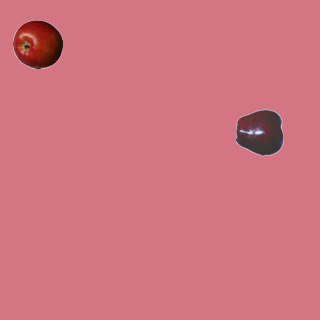Apple Braeburn: (12, 19, 62, 69)
Apple Red Delicious: (235, 107, 285, 157)
